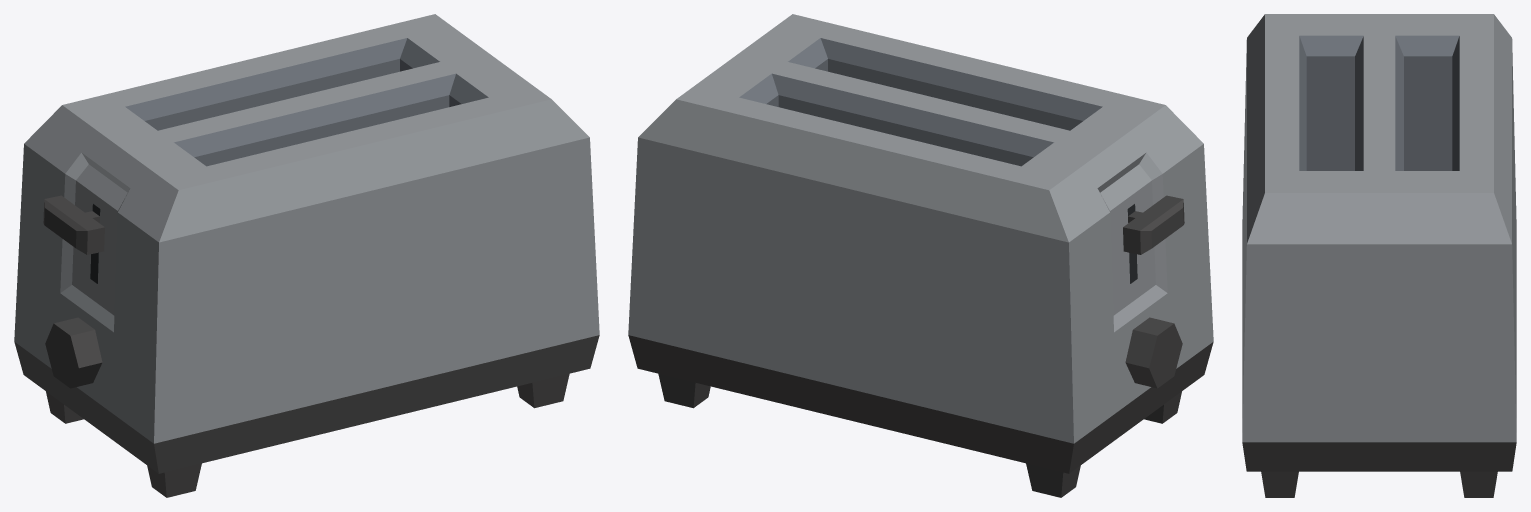
Rendered from SM_Prop_Toaster_01.fbx.
The picture shows the model from 3 angles, left to right: view 1: azimuth 30°, elevation 25°; view 2: azimuth 150°, elevation 25°; view 3: azimuth 270°, elevation 25°; orthographic projection.
Visible parts, largest first — view 1: SM_Prop_Toaster_01; view 2: SM_Prop_Toaster_01; view 3: SM_Prop_Toaster_01.
Boxes of the visible parts, x1=… form: SM_Prop_Toaster_01: x1=14, y1=14, x2=599, y2=497; SM_Prop_Toaster_01: x1=628, y1=14, x2=1213, y2=497; SM_Prop_Toaster_01: x1=1242, y1=14, x2=1516, y2=497.
Bounding box in the file's own units: 38.88 × 24.12 × 20.03.
